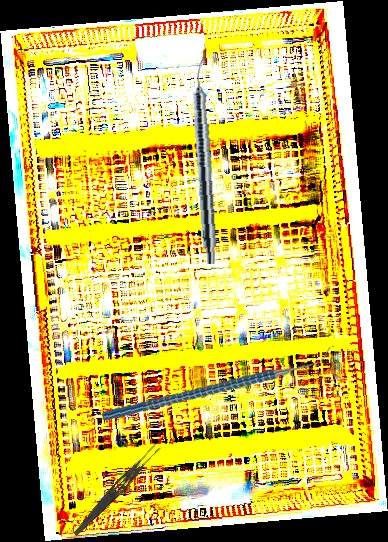Chopper: (101, 324, 336, 441)
Dressing Forceps: (71, 440, 163, 541)
Handpiece: (188, 54, 223, 265)
